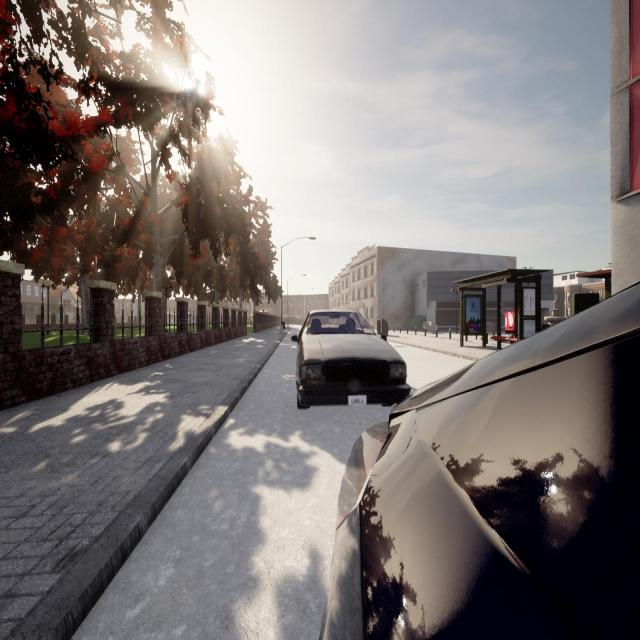Vehicle: (321, 284, 639, 638), (292, 309, 410, 408)
